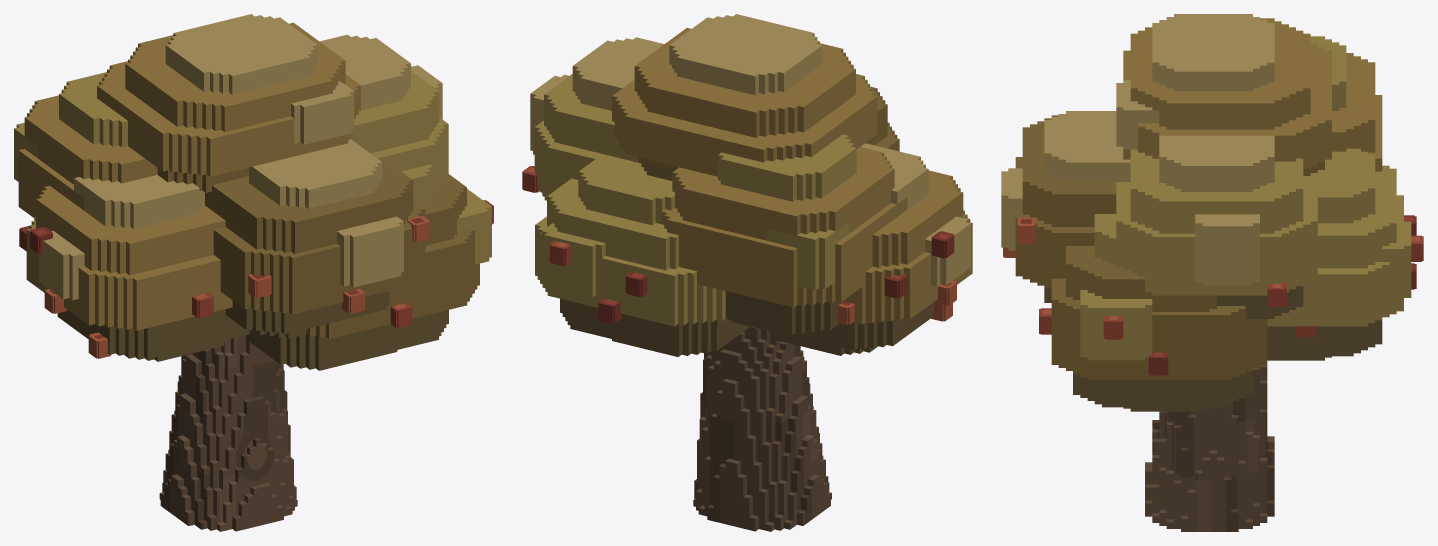
File: apple_ancient_autumn_fruiting_2.glb
The picture shows the model from 3 angles, left to right: view 1: azimuth 30°, elevation 25°; view 2: azimuth 150°, elevation 25°; view 3: azimuth 270°, elevation 25°; orthographic projection. The views are drawn at different scales.
Parts seen in each view (by area): view 1: VoxelVisual; view 2: VoxelVisual; view 3: VoxelVisual.
Boxes of the visible parts, x1,y1,x2,y2 form: VoxelVisual: [14, 14, 493, 531]; VoxelVisual: [522, 14, 972, 531]; VoxelVisual: [1001, 14, 1423, 531].
Size of what is drawn, in the model's own units: 16.88 by 18 by 14.69.
